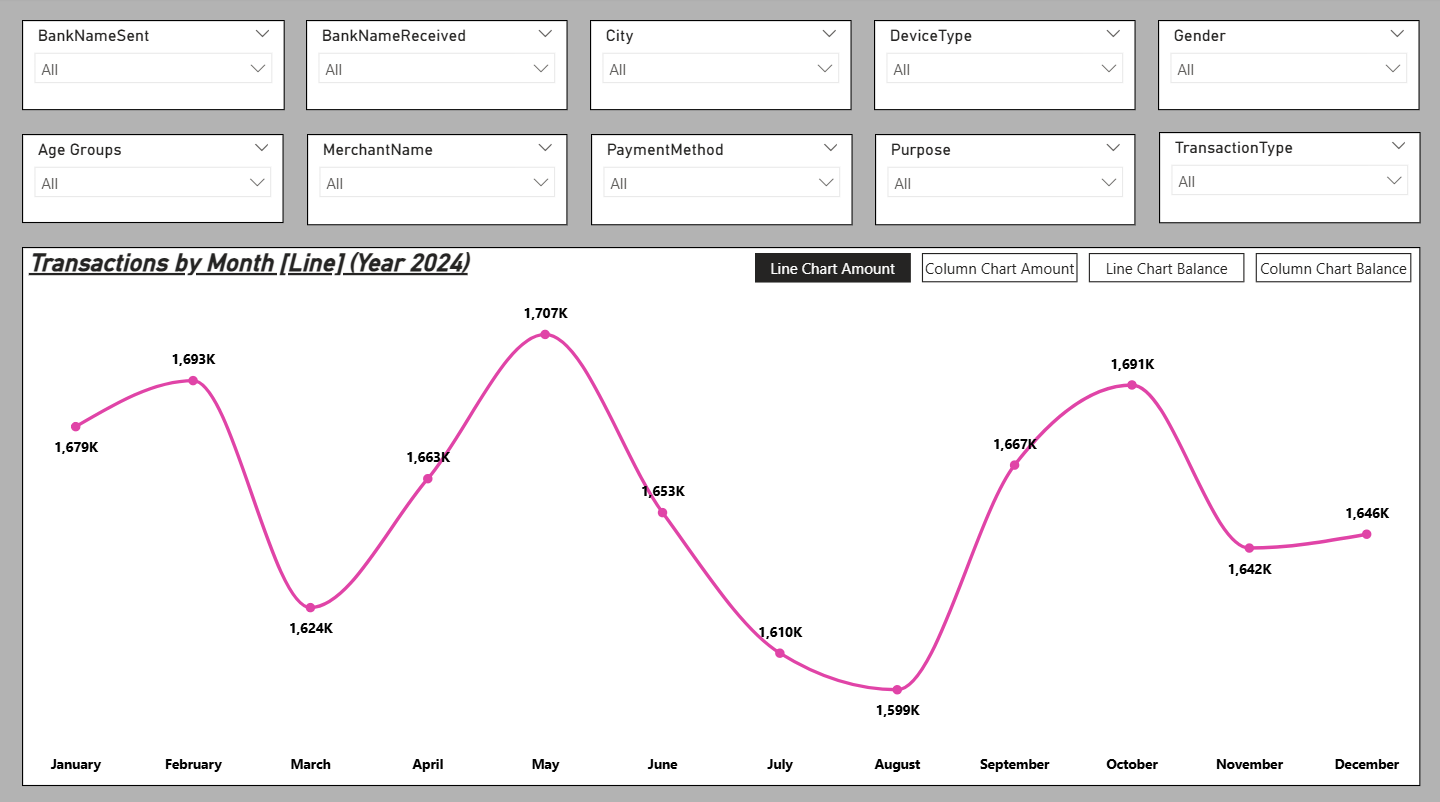

Layout of this report page (visuals, bound fields, positions):
{"tool":"powerbi","page":{"name":"Page 1","canvas":[1280,720],"ordinal":0},"visuals":[{"type":"slicer","fields":{"Values":["UPI Transactions.BankNameSent"]},"box":[20,20,233,80],"z":0},{"type":"slicer","fields":{"Values":["UPI Transactions.BankNameReceived"]},"box":[272,20.6,232,80],"z":1000},{"type":"slicer","fields":{"Values":["UPI Transactions.City"]},"box":[524.2,20.6,232,80],"z":2000},{"type":"slicer","fields":{"Values":["UPI Transactions.DeviceType"]},"box":[776,20.6,232,80],"z":3000},{"type":"slicer","fields":{"Values":["UPI Transactions.Gender"]},"box":[1028,20.6,232,80],"z":4000},{"type":"slicer","fields":{"Values":["UPI Transactions.Age Groups"]},"box":[20.8,121.1,232.3,79.5],"z":5000},{"type":"slicer","fields":{"Values":["UPI Transactions.MerchantName"]},"box":[273.3,121.1,231.1,80.7],"z":6000},{"type":"slicer","fields":{"Values":["UPI Transactions.PaymentMethod"]},"box":[524.6,121.1,232.3,80.7],"z":7000},{"type":"slicer","fields":{"Values":["UPI Transactions.Purpose"]},"box":[777.1,121.1,231.1,80.7],"z":8000},{"type":"slicer","fields":{"Values":["UPI Transactions.TransactionType"]},"box":[1028.4,119.8,232.3,80.7],"z":9000},{"type":"lineChart","title":"Transactions by Month [Line] (Year 2024)","fields":{"Y":["Sum(UPI Transactions.Amount)"],"Category":["UPI Transactions.TransactionDate.Variation.Date Hierarchy.Month"]},"box":[20.8,221.3,1240,478.1],"z":10000},{"type":"bookmarkNavigator","box":[670.3,227.2,585.9,26.1],"z":14000}]}

Visuals, with their boxes in screenshot pixels (x1, y1, x2, y2), scaled from the page's 1280x720 canvas onto the 1440x802 screenshot:
slicer - UPI Transactions.BankNameSent: 22:22:285:111
slicer - UPI Transactions.BankNameReceived: 306:23:567:112
slicer - UPI Transactions.City: 590:23:851:112
slicer - UPI Transactions.DeviceType: 873:23:1134:112
slicer - UPI Transactions.Gender: 1156:23:1418:112
slicer - UPI Transactions.Age Groups: 23:135:285:223
slicer - UPI Transactions.MerchantName: 307:135:567:225
slicer - UPI Transactions.PaymentMethod: 590:135:852:225
slicer - UPI Transactions.Purpose: 874:135:1134:225
slicer - UPI Transactions.TransactionType: 1157:133:1418:223
"Transactions by Month [Line] (Year 2024)" lineChart: 23:247:1418:779
bookmarkNavigator: 754:253:1413:282
